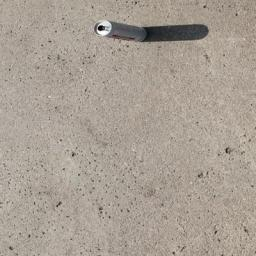FOD: (89, 15, 212, 45)
